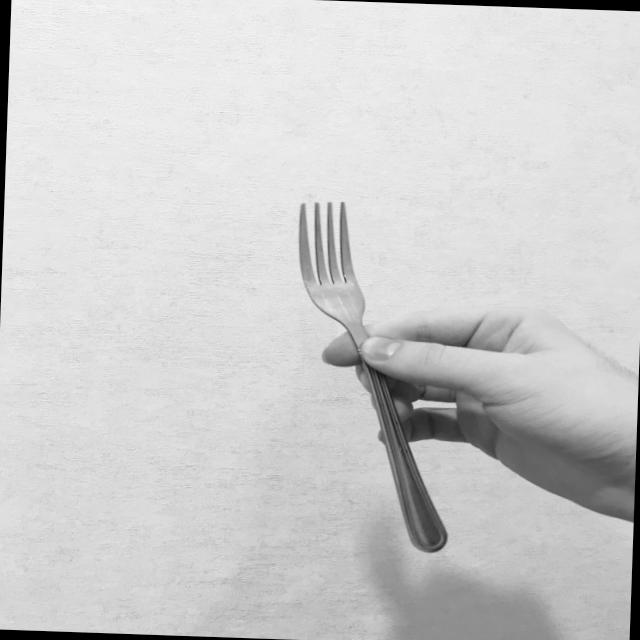fork: (284, 196, 462, 556)
